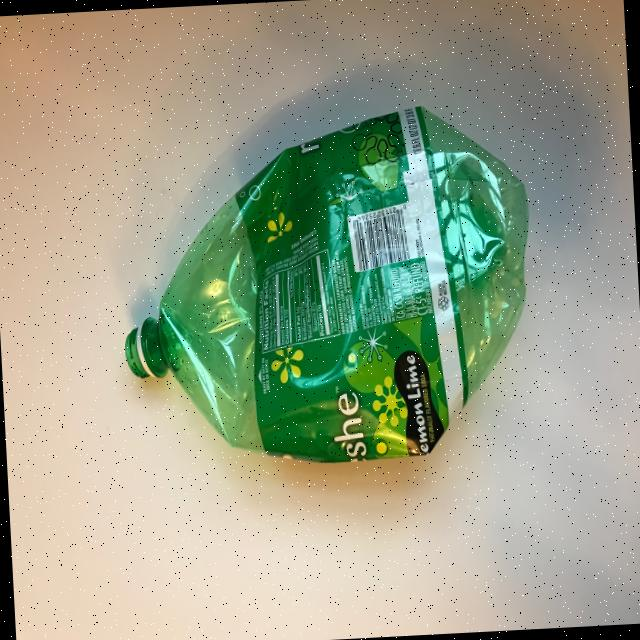plastic: (113, 99, 542, 475)
